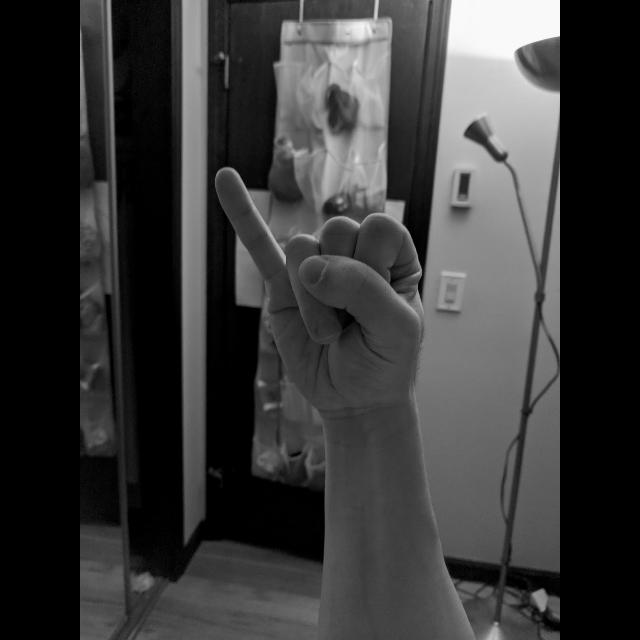I: (210, 161, 432, 419)
